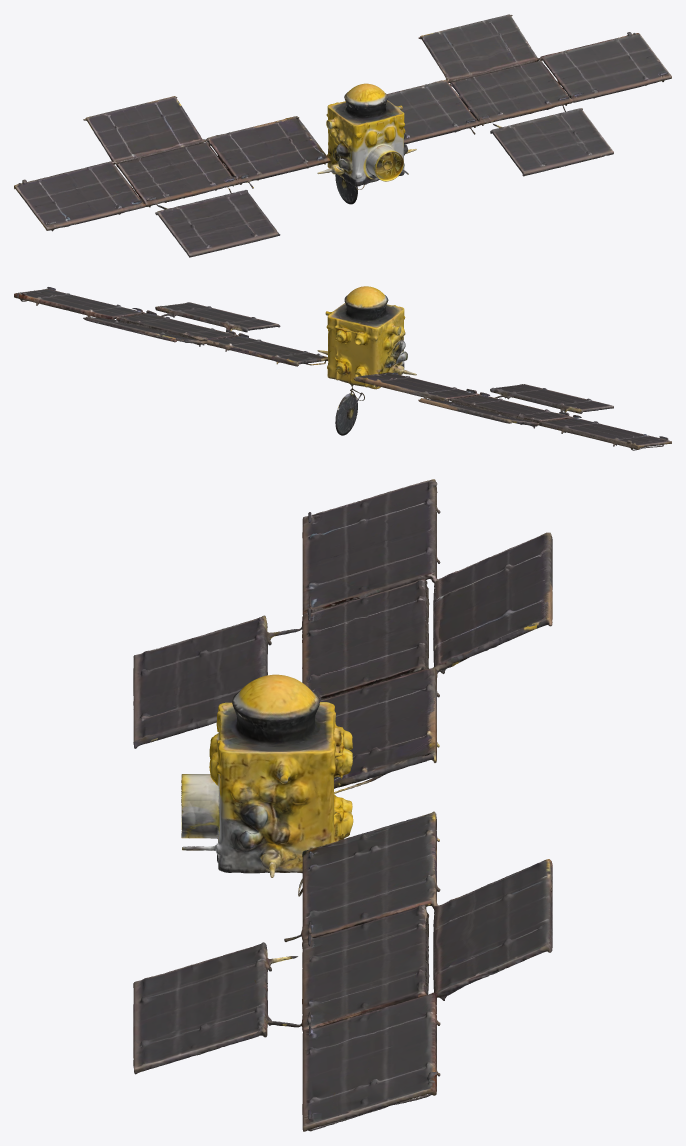
The model's file is zefero.glb.
3 views of the same model, one above another, from view 1: azimuth 30°, elevation 25°; view 2: azimuth 150°, elevation 25°; view 3: azimuth 270°, elevation 25° (orthographic). The views are drawn at different scales.
Size of the model in its own units: 1.9 by 0.3806 by 0.5517.
1 material, 1 textured.
